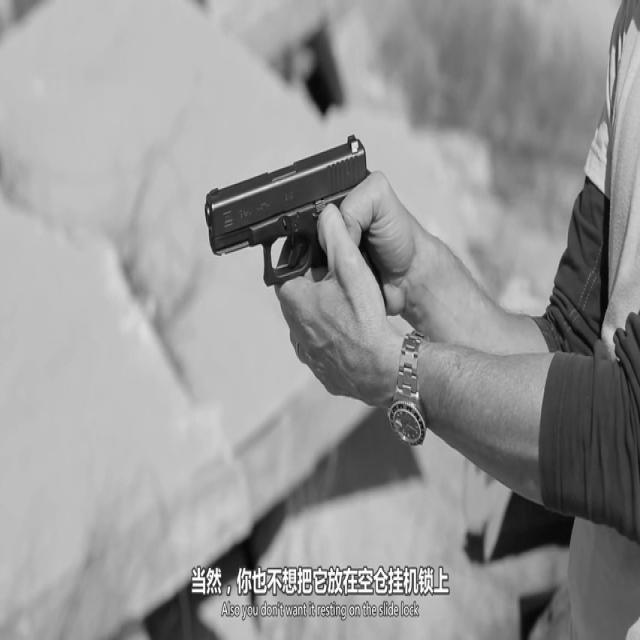Hand-Gun: (172, 60, 474, 475)
